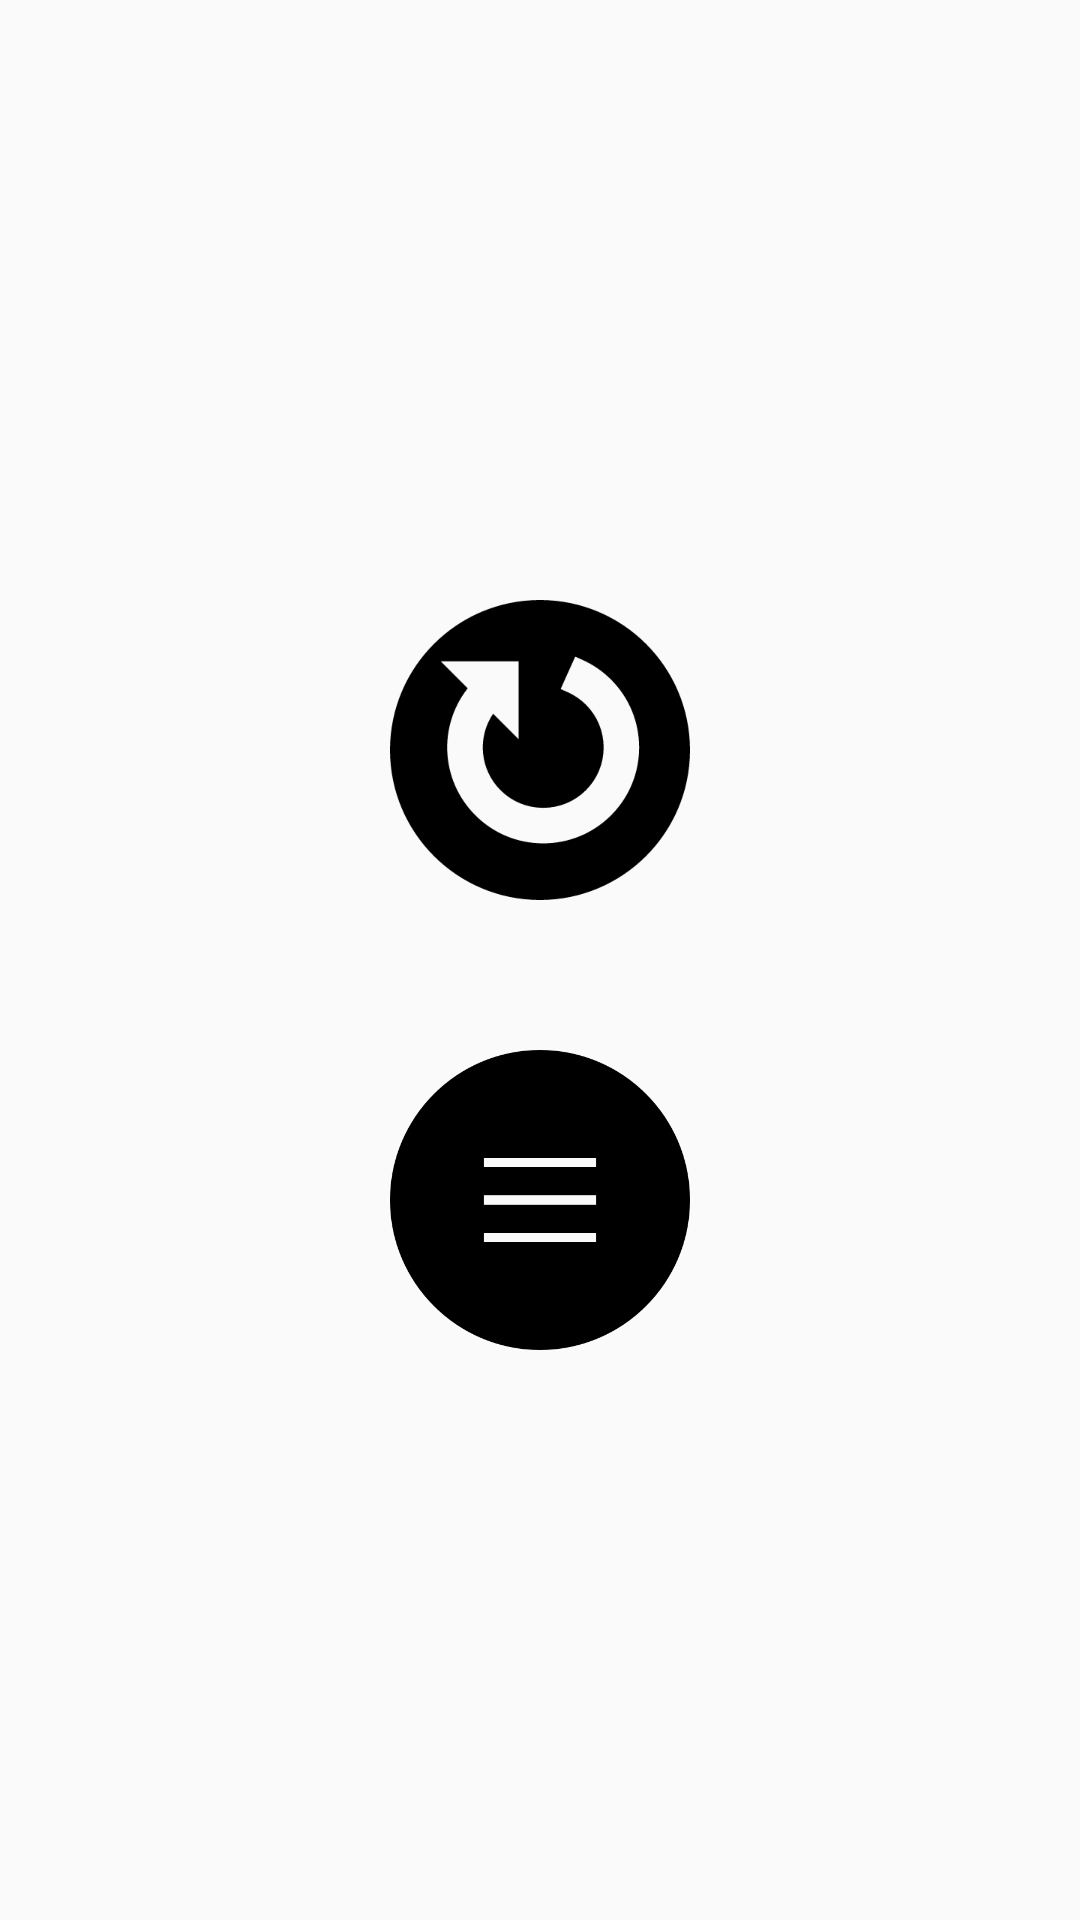

Locate icon controls on the screen. Image size 1080px×1920px, boxes as bbox=[x1, y1, x2, y2].
mainmenu: bbox=[390, 1050, 690, 1350]
restart: bbox=[390, 600, 690, 900]
